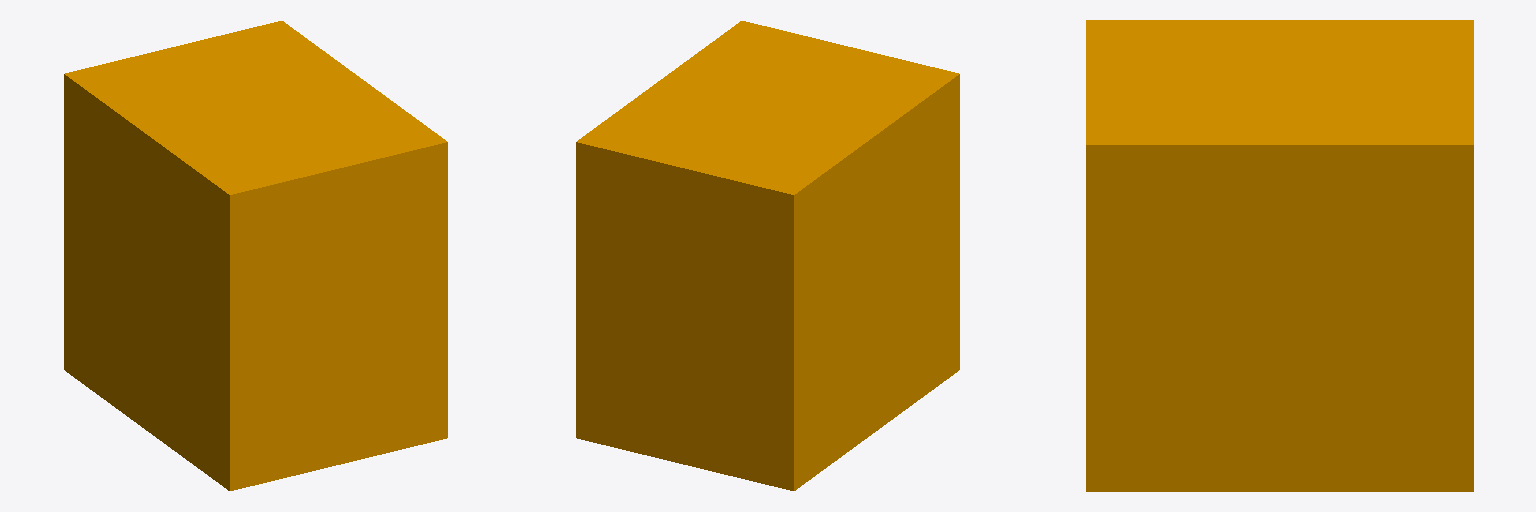
URDF robot description (box_0):
<robot name="box_0">
        <link name="base">
            <inertial>
                <mass value="0.2"/>
                <inertia ixx="0.0001" ixy="0" ixz="0" iyy="0.0001" iyz="0" izz="0.0001"/>
            </inertial>
            <visual>
                <geometry><mesh filename="box_0.obj" scale="1 1 1"/></geometry>
            </visual>
            <collision>
                <geometry><box size="0.03949398772542342 0.05201738830324279 0.0512198568932556"/></geometry>
            </collision>
        </link></robot>

--- Render facts (derived) ---
The picture shows the robot from 3 angles, left to right: view 1: azimuth 30°, elevation 25°; view 2: azimuth 150°, elevation 25°; view 3: azimuth 270°, elevation 25°; orthographic projection.
Robot: box_0 — 1 links, 0 joints (none); root link base; default pose: all joints at 0.
Visible links, largest first — view 1: base; view 2: base; view 3: base.
Link boxes in pixels (x1,y1,x2,y2): base: [64, 21, 447, 490]; base: [576, 21, 959, 490]; base: [1086, 20, 1473, 491].
Bounding box of the posed robot: 0.0395 × 0.052 × 0.0512 m (x, y, z).
1 mesh visuals loaded from 1 distinct referenced files (1 OBJ).
